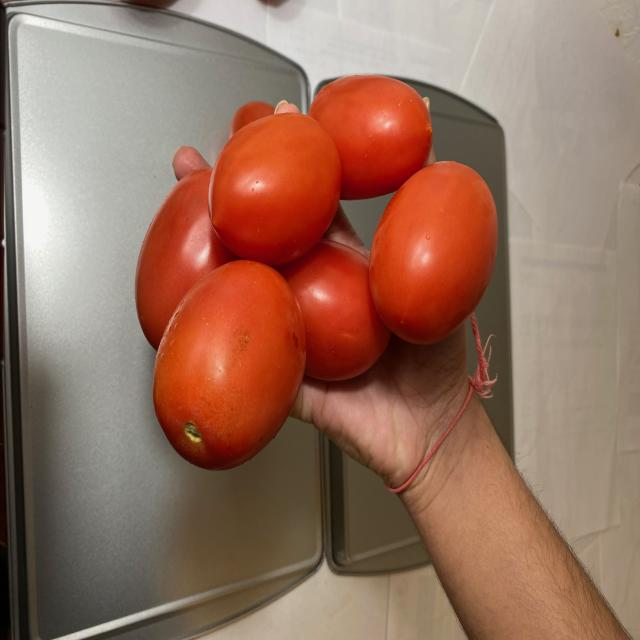tomato: (130, 80, 496, 472)
